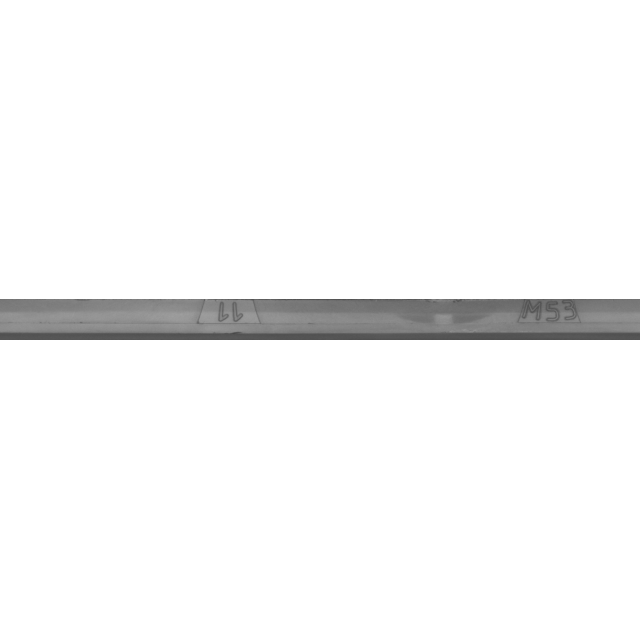mohao: (457, 270, 640, 370)
xuehao: (132, 270, 332, 370)
